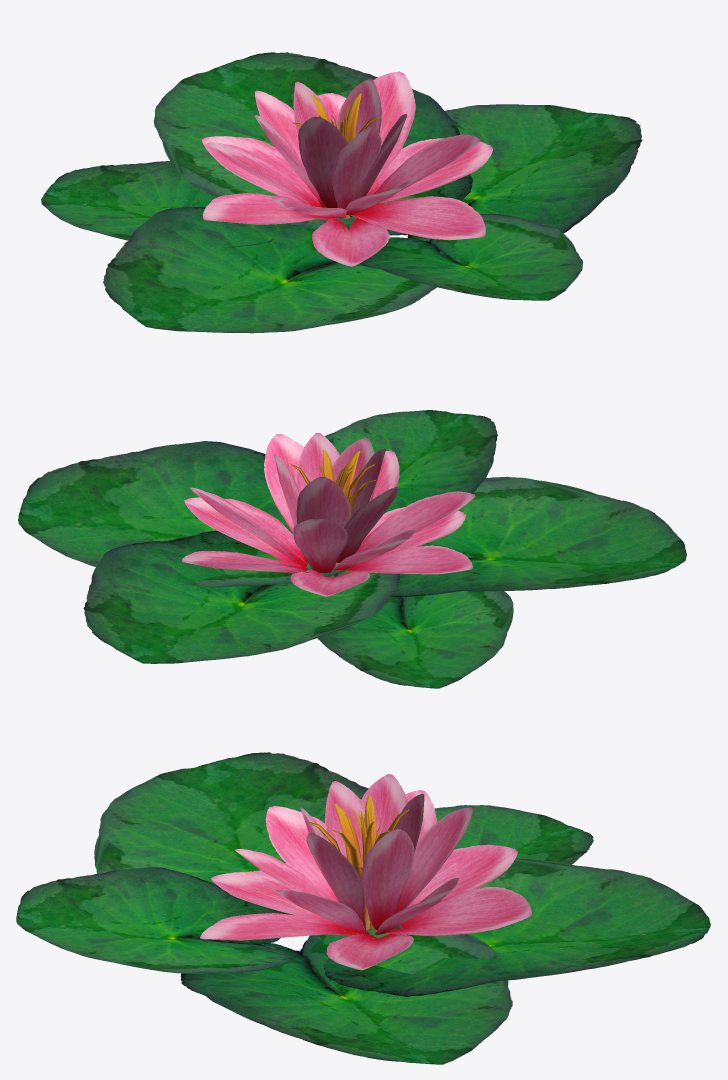
File: lilia_fbx.FBX
3 renders of one model, top to bottom at view 1: azimuth 30°, elevation 25°; view 2: azimuth 150°, elevation 25°; view 3: azimuth 270°, elevation 25°, orthographic. The views are drawn at different scales.
Parts seen in each view (by area): view 1: lilia; view 2: lilia; view 3: lilia.
Part boxes in pixels (bbox=[...]): lilia: bbox=[41, 52, 642, 333]; lilia: bbox=[18, 410, 686, 688]; lilia: bbox=[16, 752, 710, 1064].
Size of the model in its own units: 80.98 by 15.92 by 72.41.
3 materials, 3 textured.
